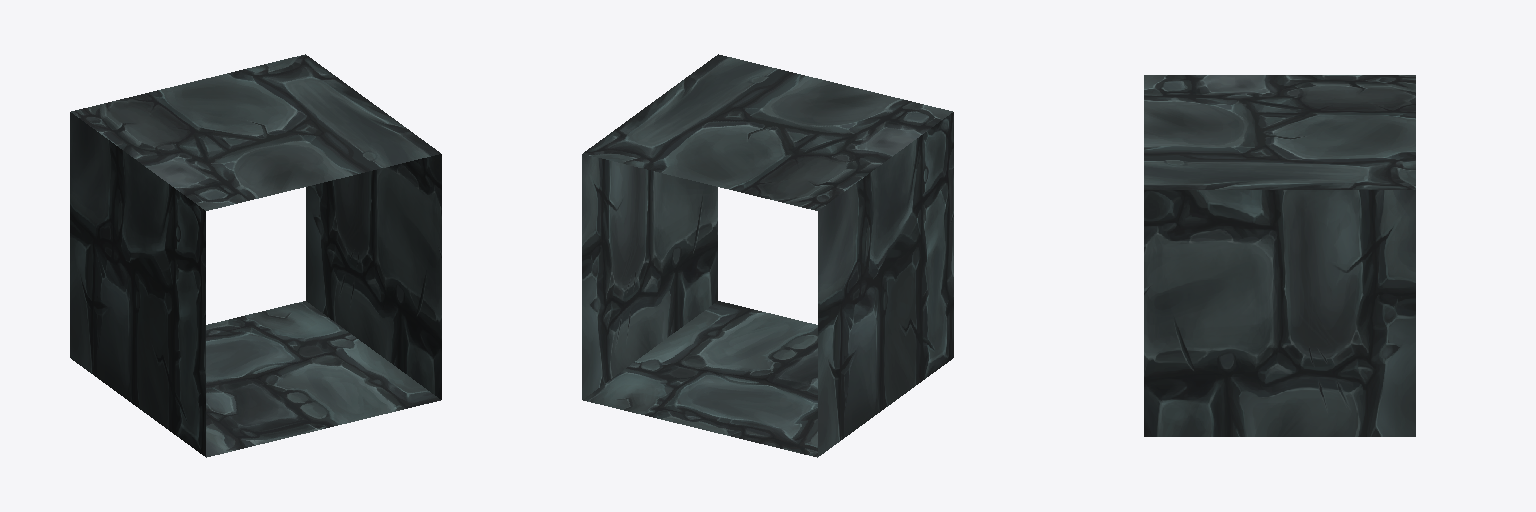
3 views of the same model, side by side, from view 1: azimuth 30°, elevation 25°; view 2: azimuth 150°, elevation 25°; view 3: azimuth 270°, elevation 25° (orthographic).
Visible parts, largest first — view 1: Cube; view 2: Cube; view 3: Cube.
Part boxes in pixels (bbox=[...]): Cube: bbox=[70, 54, 441, 457]; Cube: bbox=[582, 54, 953, 457]; Cube: bbox=[1144, 75, 1415, 436].
Bounding box in the file's own units: 20 × 20 × 20.
Materials: 1 (1 with a texture image).